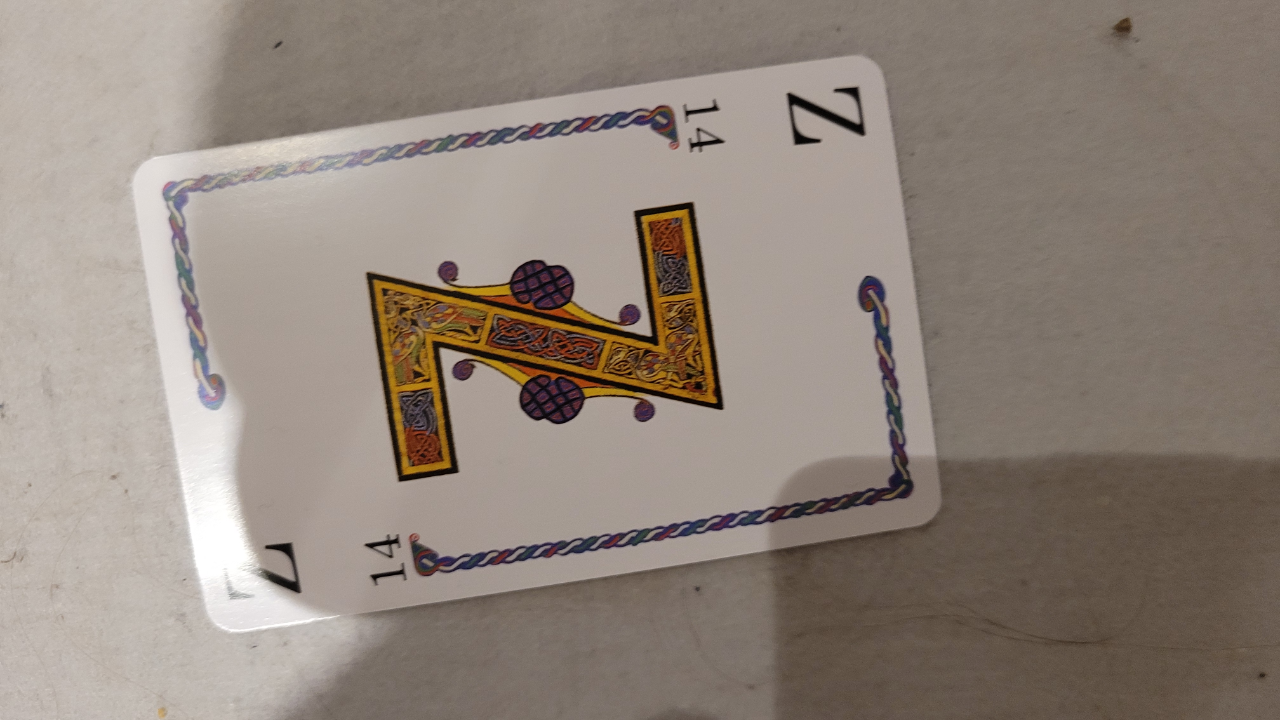quiddler_card: (113, 55, 998, 650)
